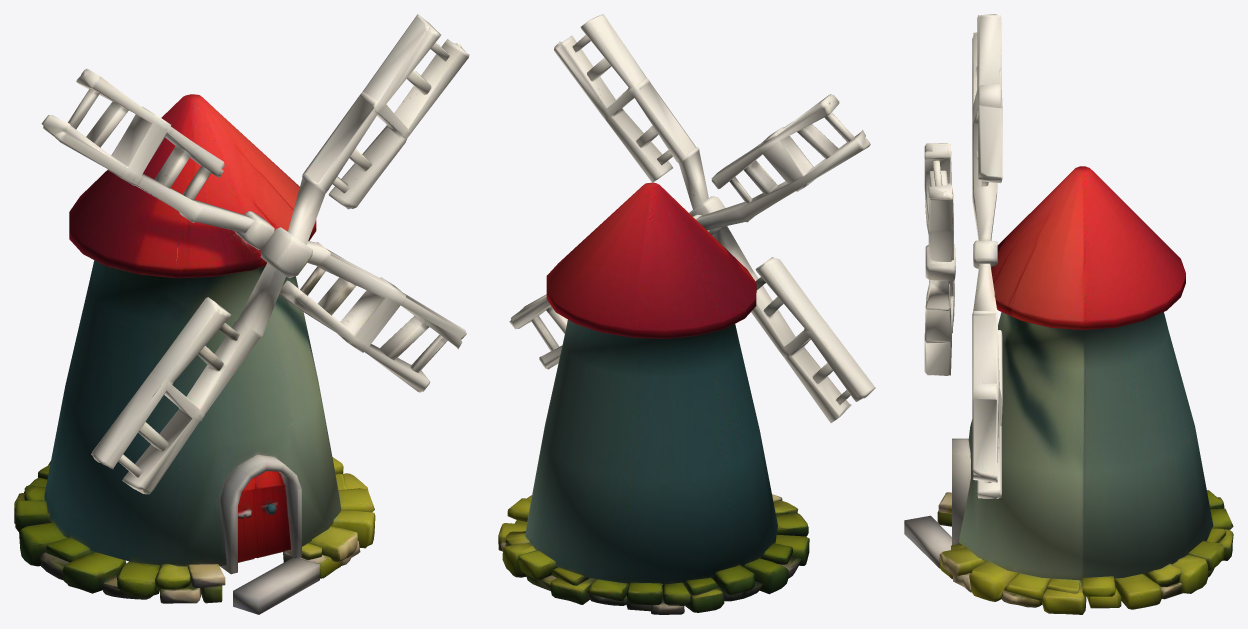
File: lm_windmill.glb
3 views of the same model, side by side, from view 1: azimuth 30°, elevation 25°; view 2: azimuth 150°, elevation 25°; view 3: azimuth 270°, elevation 25° (orthographic). The views are drawn at different scales.
Parts seen in each view (by area): view 1: Prop; view 2: Prop; view 3: Prop.
Part boxes in pixels (x1,y1,x2,y2): Prop: (14, 14, 469, 614); Prop: (498, 14, 875, 614); Prop: (904, 14, 1233, 614).
Bounding box in the file's own units: 0.8105 × 0.998 × 0.6348.
1 material, 1 textured.
